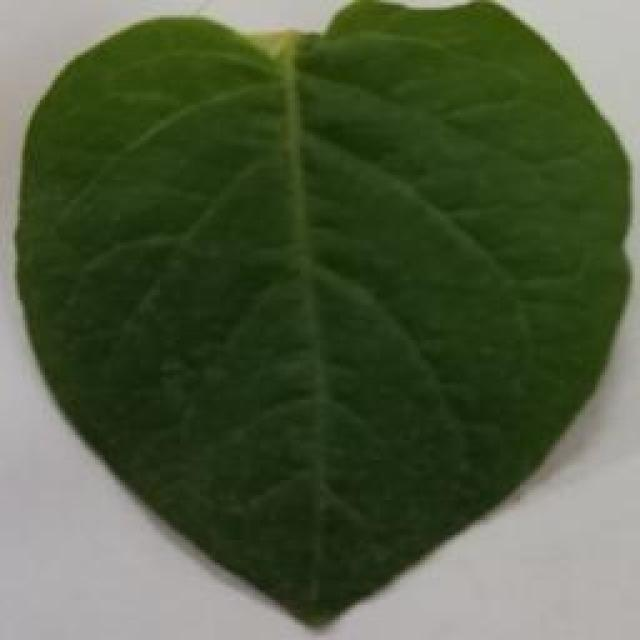Potato_Healthy: (14, 7, 626, 629)
